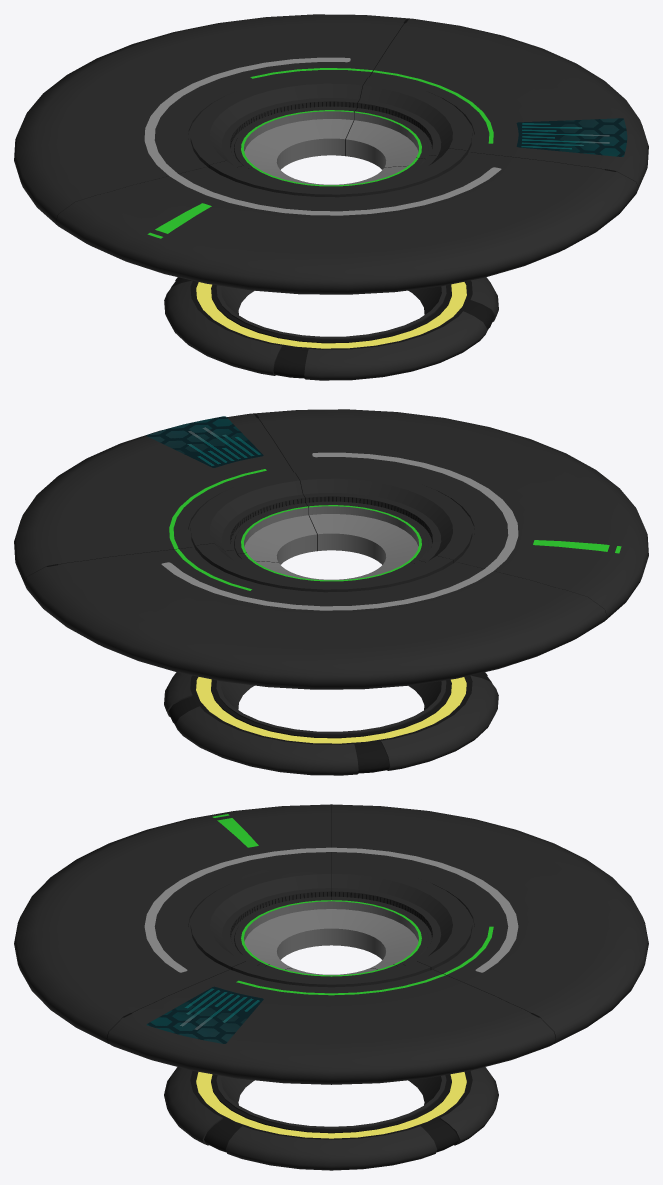
The model's file is W_O_Info_004_L0.fbx.
3 renders of one model, top to bottom at view 1: azimuth 30°, elevation 25°; view 2: azimuth 150°, elevation 25°; view 3: azimuth 270°, elevation 25°, orthographic.
Visible parts, largest first — view 1: W_O_Info_004_L0, W_O_Info_004_Display_L0; view 2: W_O_Info_004_L0, W_O_Info_004_Display_L0; view 3: W_O_Info_004_L0, W_O_Info_004_Display_L0.
Boxes of the visible parts, bbox=[...] form: W_O_Info_004_L0: bbox=[14, 14, 648, 380]; W_O_Info_004_Display_L0: bbox=[516, 118, 627, 156]; W_O_Info_004_L0: bbox=[14, 409, 648, 775]; W_O_Info_004_Display_L0: bbox=[146, 416, 263, 467]; W_O_Info_004_L0: bbox=[14, 804, 648, 1170]; W_O_Info_004_Display_L0: bbox=[146, 986, 263, 1043].
Size of the model in its own units: 2.9 by 0.896 by 2.9.
